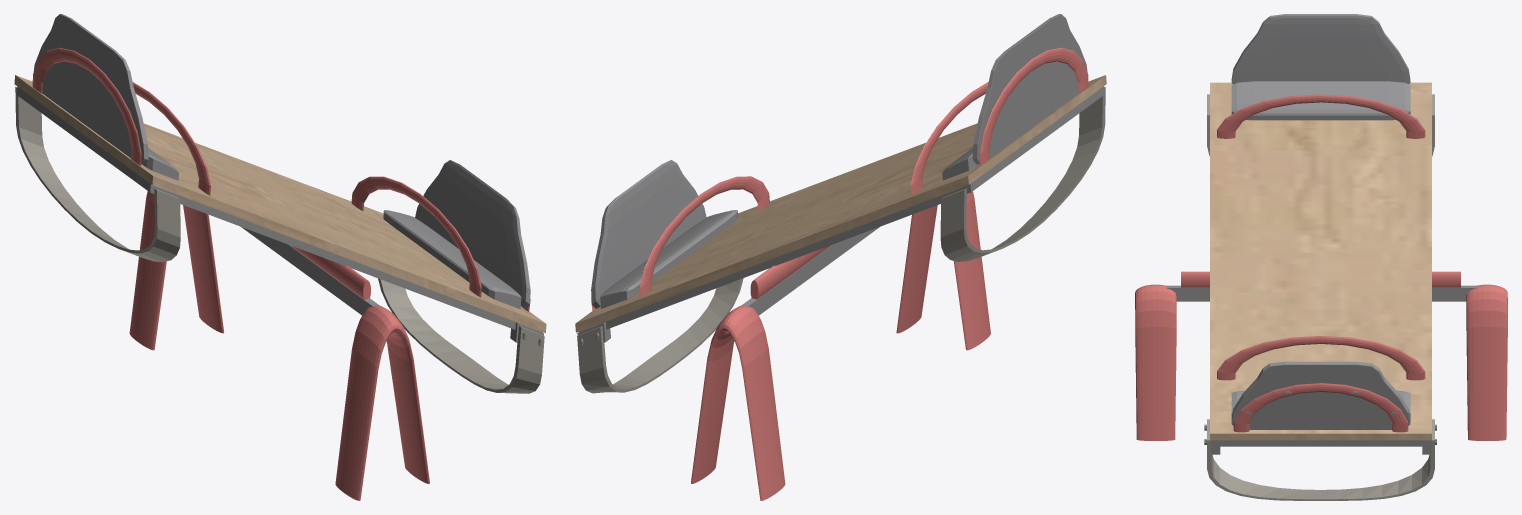
File: sh-bs0-seesaw.glb
3 renders of one model, left to right at view 1: azimuth 30°, elevation 25°; view 2: azimuth 150°, elevation 25°; view 3: azimuth 270°, elevation 25°, orthographic. The views are drawn at different scales.
Parts seen in each view (by area): view 1: Seesaw, Wood; view 2: Seesaw, Wood; view 3: Wood, Seesaw.
Boxes of the visible parts, x1,y1,x2,y2 form: Seesaw: (15,14,544,500); Wood: (14,75,546,332); Seesaw: (577,14,1105,500); Wood: (575,75,1106,332); Wood: (1210,82,1431,440); Seesaw: (1135,14,1507,500).
Size of the model in its own units: 1 by 1 by 1.
5 materials, 1 textured.
